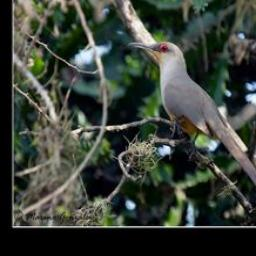Cuckoo: (126, 38, 256, 213)
